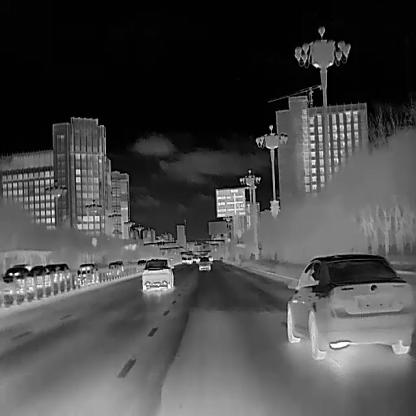car: (286, 253, 415, 360), (141, 258, 174, 290), (2, 266, 30, 291), (42, 262, 71, 286), (74, 262, 100, 286), (23, 265, 44, 290), (198, 256, 210, 270), (107, 262, 119, 274), (136, 258, 146, 272), (115, 260, 124, 271), (186, 256, 192, 264)
